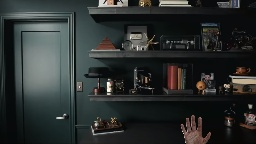Mano_aperta: (178, 114, 211, 143)
